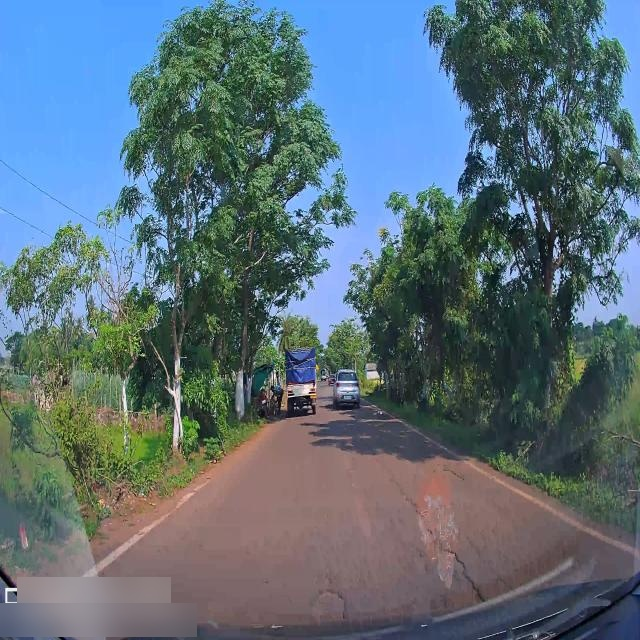pothole: (438, 540, 482, 604), (398, 480, 442, 543), (309, 582, 348, 624), (440, 461, 469, 484)
